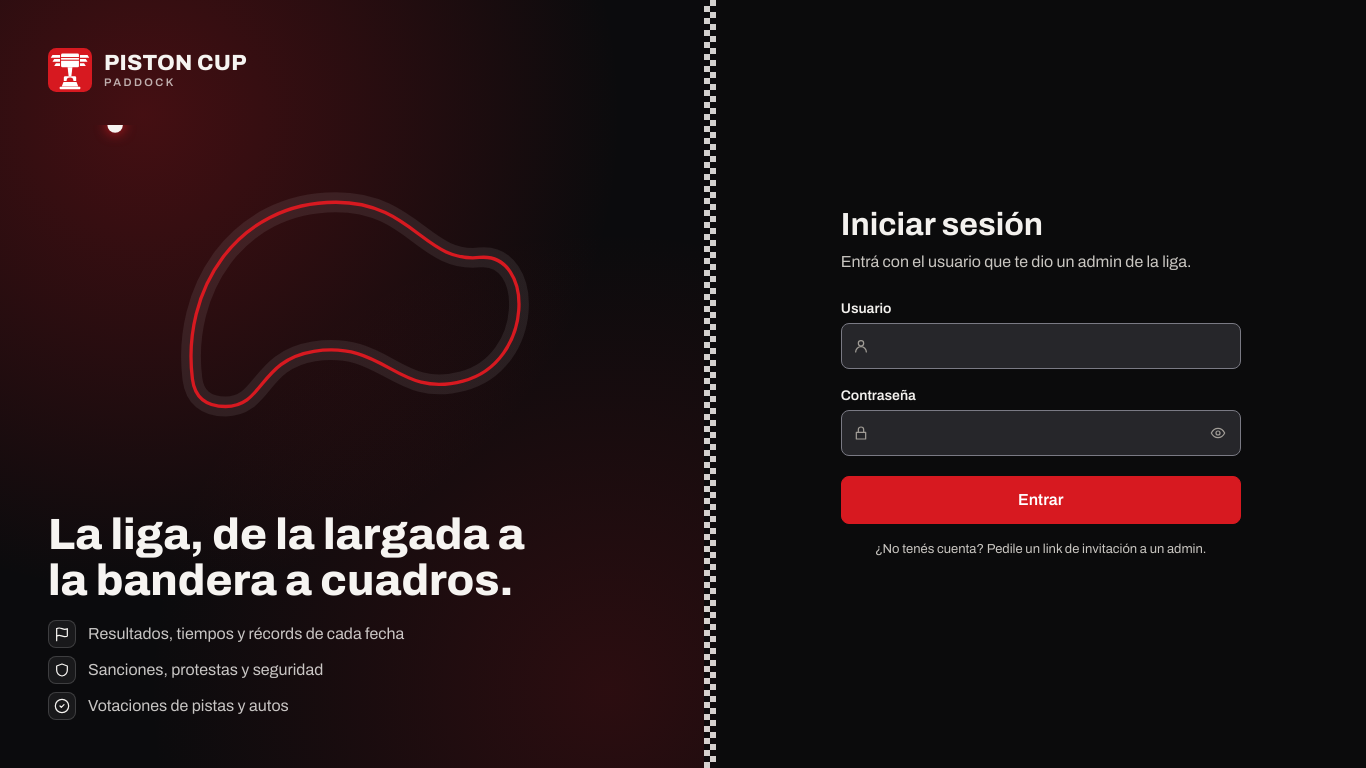
login limit › shows the wait message after too many wrong passwords
Type "santi" into the field labelled "Usuario". click: x=1041, y=346
box: 841,323 -> 1241,369
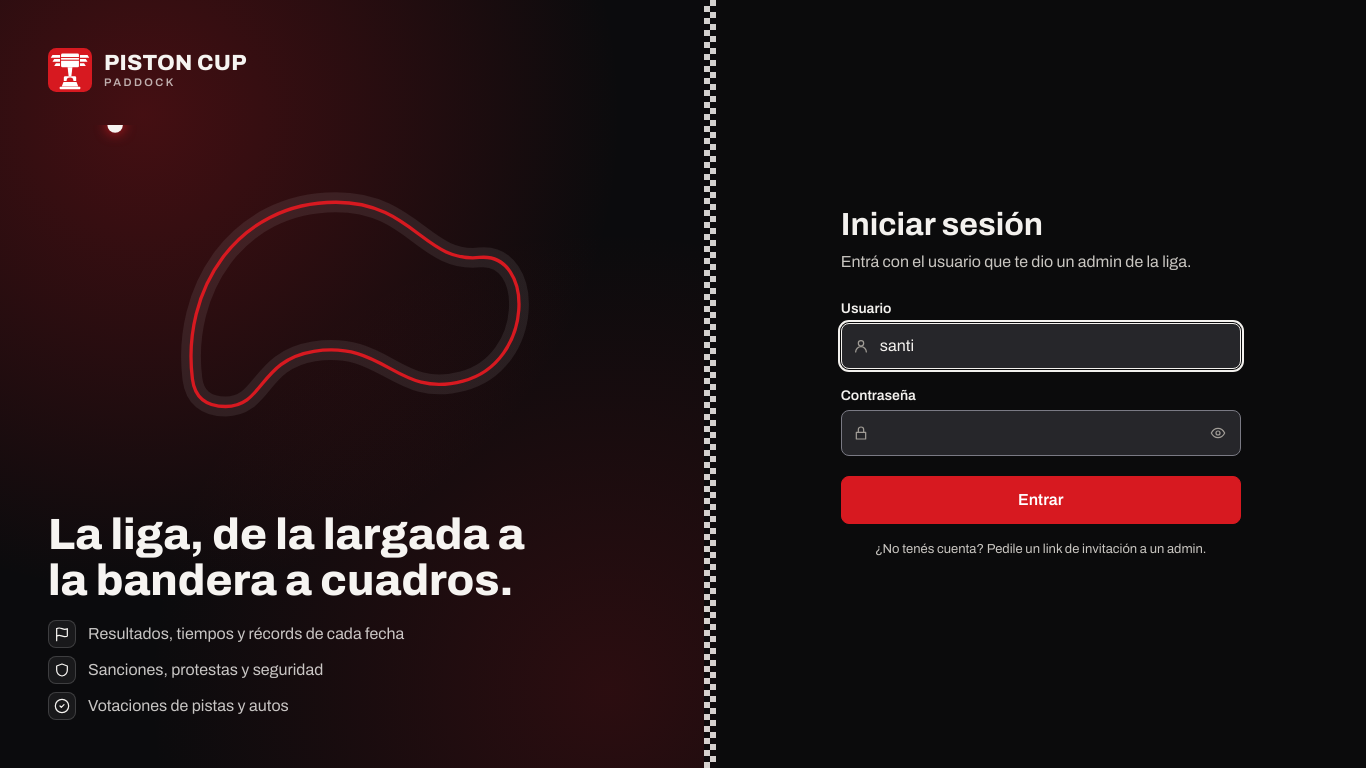
Type "wrong" into the password field labelled "Contraseña". click: x=1041, y=433
box: 841,410 -> 1241,456
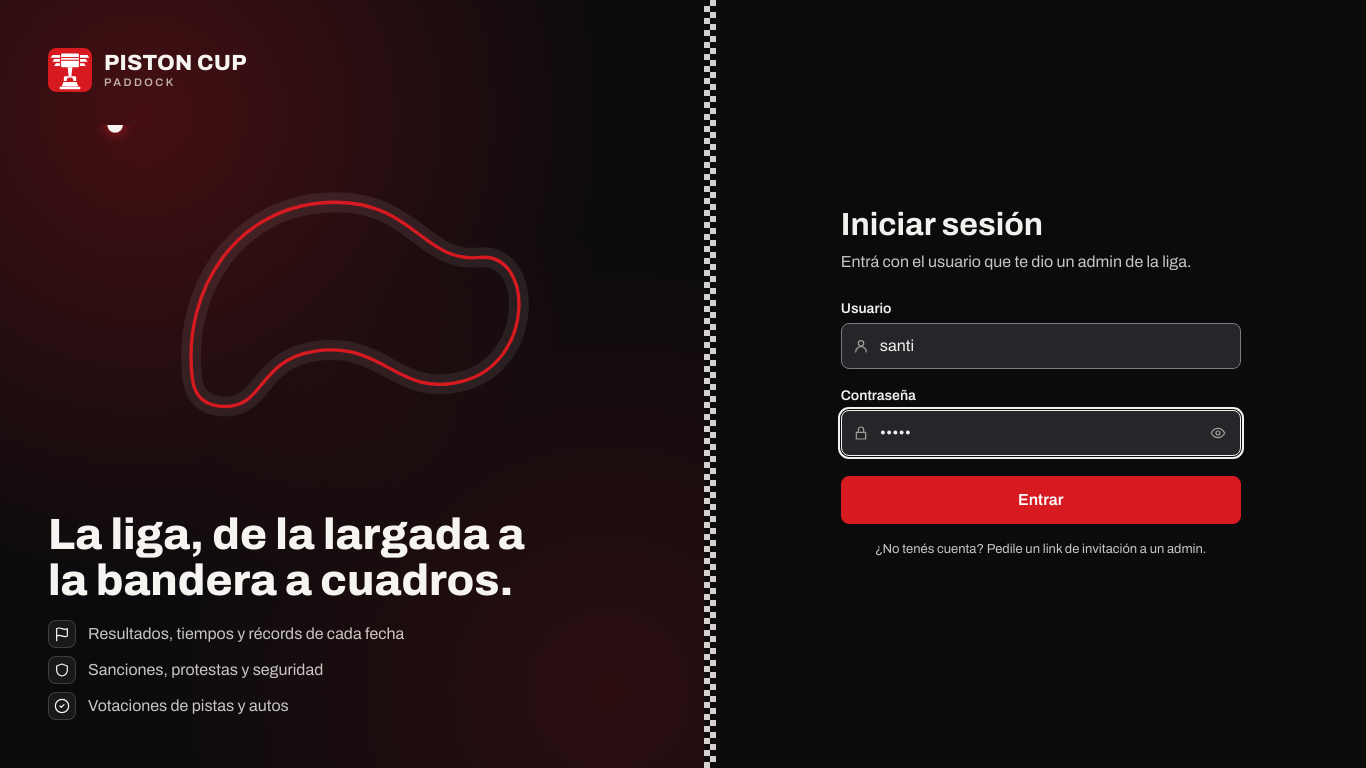
Click the button "Entrar". click: x=1041, y=500
box: 841,476 -> 1241,524
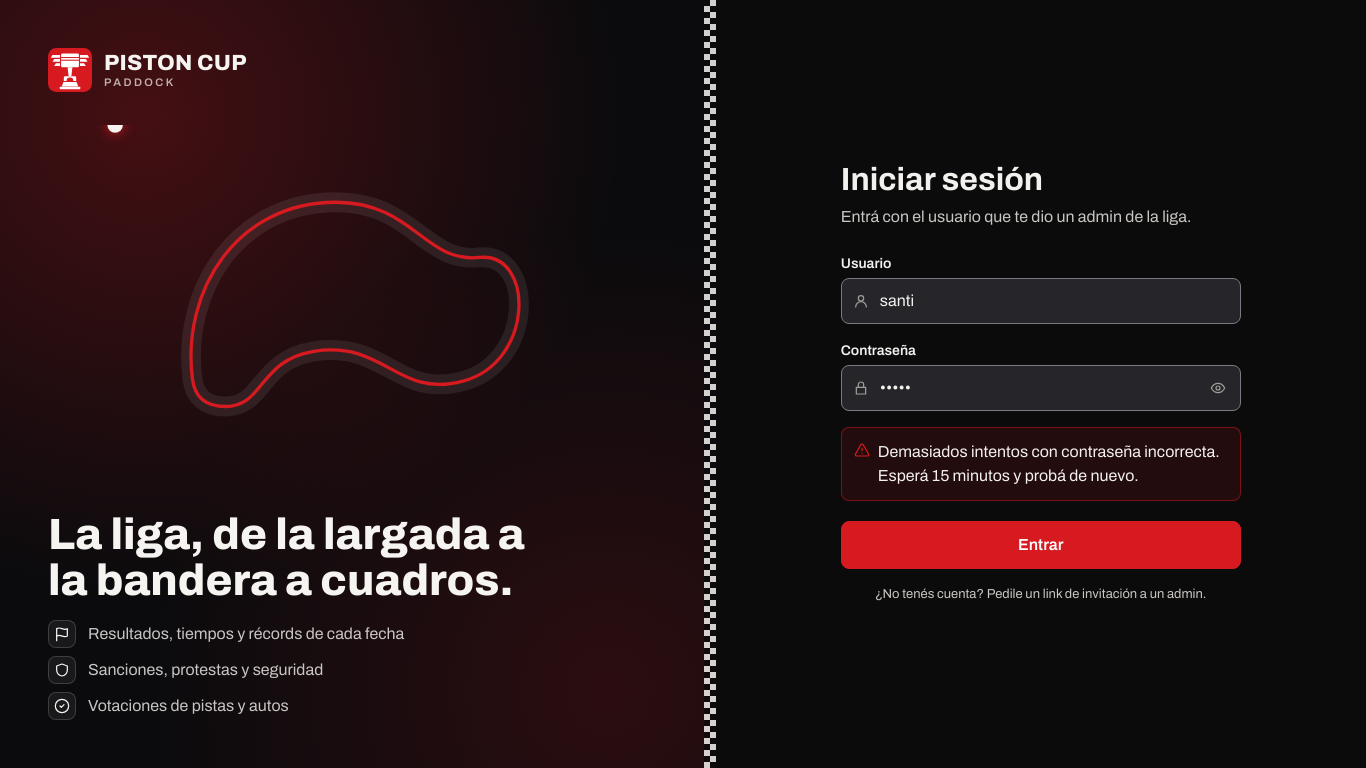
Result: the message shows "Esperá 15 minutos" at 878,443 -> 1220,484
